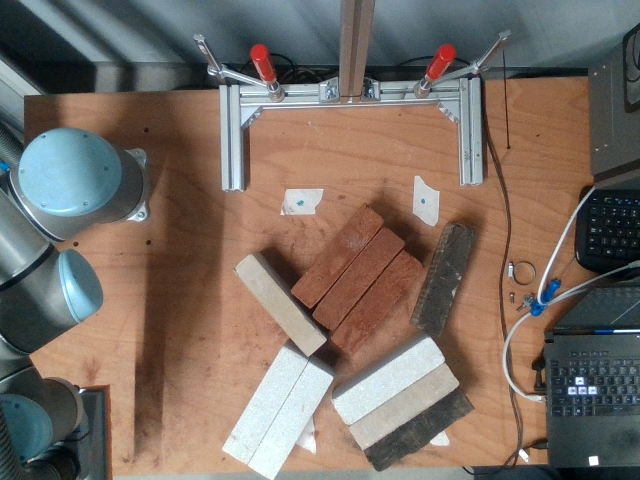brick-side: (331, 251, 424, 354), (291, 205, 383, 308), (311, 227, 403, 330), (335, 340, 444, 423), (350, 365, 459, 448), (233, 256, 322, 354), (225, 352, 304, 461), (249, 368, 328, 477), (366, 390, 472, 470), (422, 226, 477, 333)
